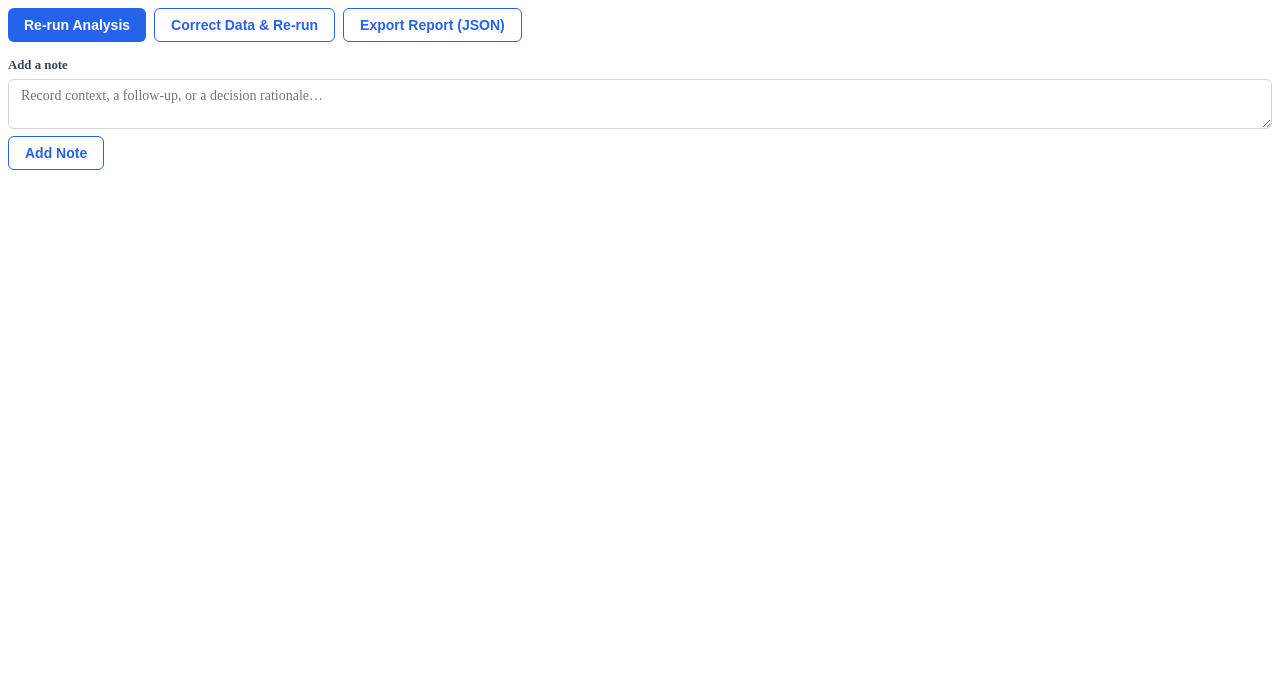
OperatorActions › blocks correct-and-re-run when nothing changed
What coordinates should you click on to do the following:
click the button with test id "toggle-correct-btn"
I would click on:
 (245, 25)
Its box is top-left (154, 8), bottom-right (335, 42).
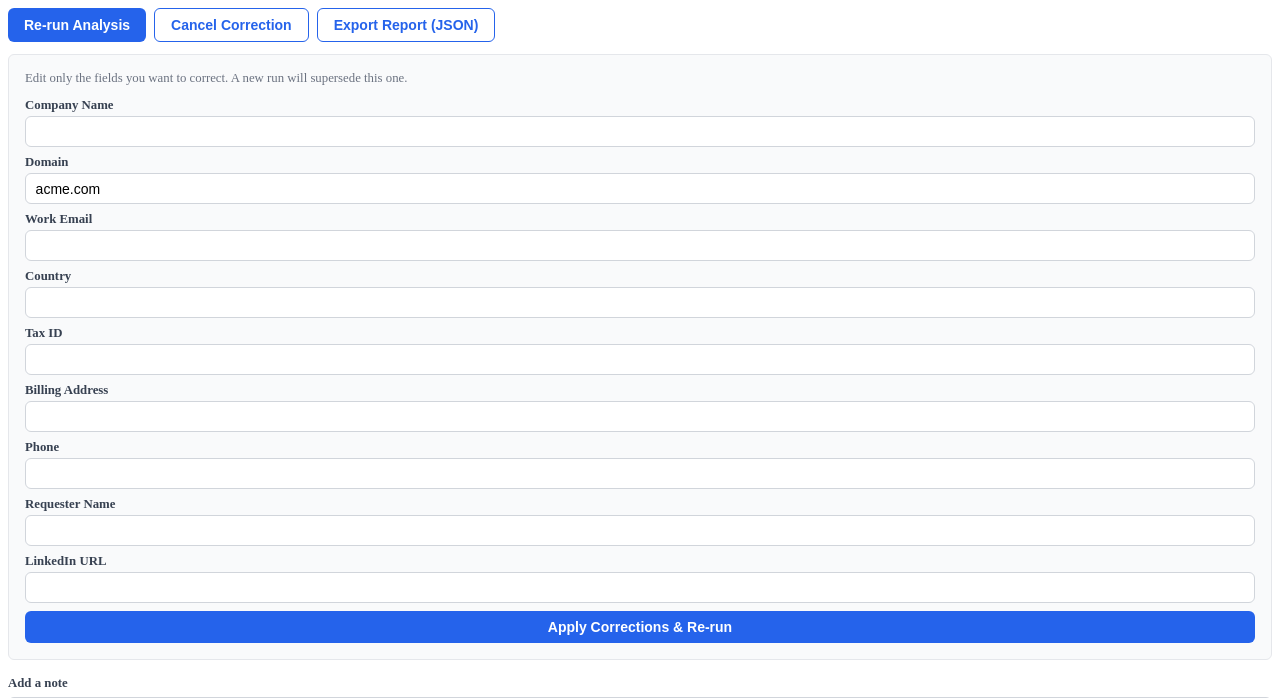
What coordinates should you click on to do the following:
click the button with test id "submit-correct-btn"
I would click on:
 (640, 627)
Its box is top-left (25, 611), bottom-right (1255, 643).
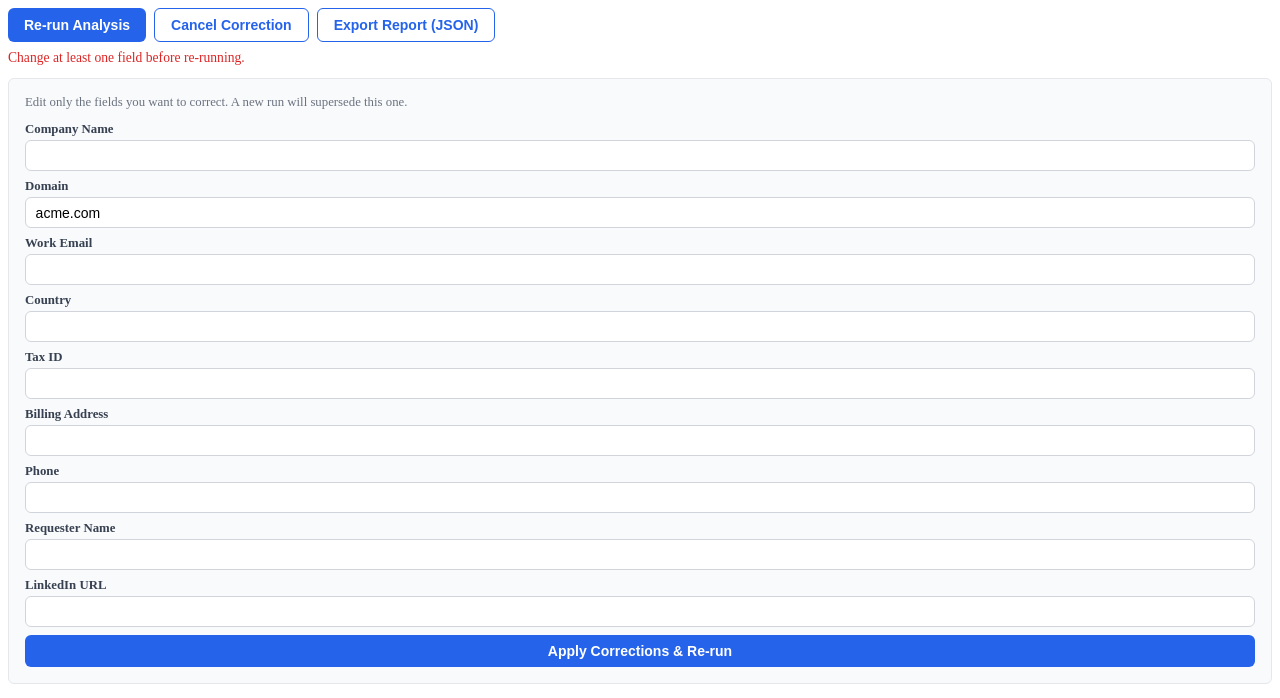
Expected: the message "Change at least one field before re-running." is shown, top-left (8, 50), bottom-right (245, 65)
